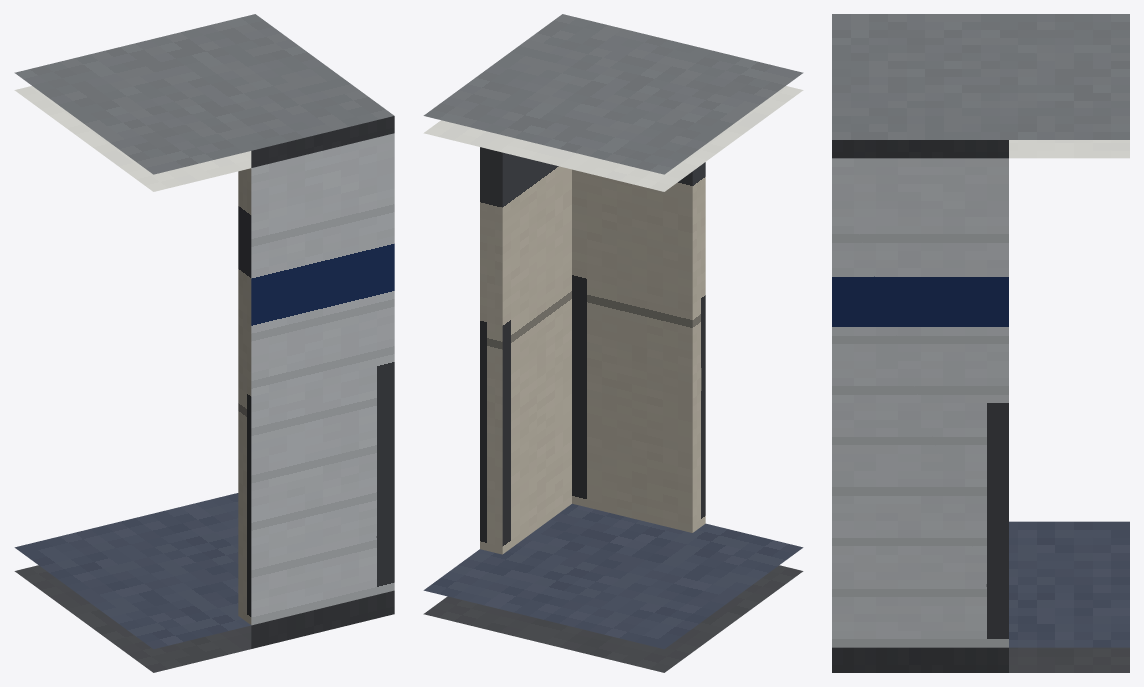
The model's file is airport_jet_bridge_corner_c8.obj.
3 renders of one model, left to right at view 1: azimuth 30°, elevation 25°; view 2: azimuth 150°, elevation 25°; view 3: azimuth 270°, elevation 25°, orthographic. The views are drawn at different scales.
Visible parts, largest first — view 1: airport_jet_bridge_corner_c8; view 2: airport_jet_bridge_corner_c8; view 3: airport_jet_bridge_corner_c8.
Boxes of the visible parts, bbox=[...] form: airport_jet_bridge_corner_c8: bbox=[14, 14, 394, 672]; airport_jet_bridge_corner_c8: bbox=[423, 14, 803, 672]; airport_jet_bridge_corner_c8: bbox=[832, 14, 1129, 672].
Size of the model in its own units: 1 by 1.98 by 1.
